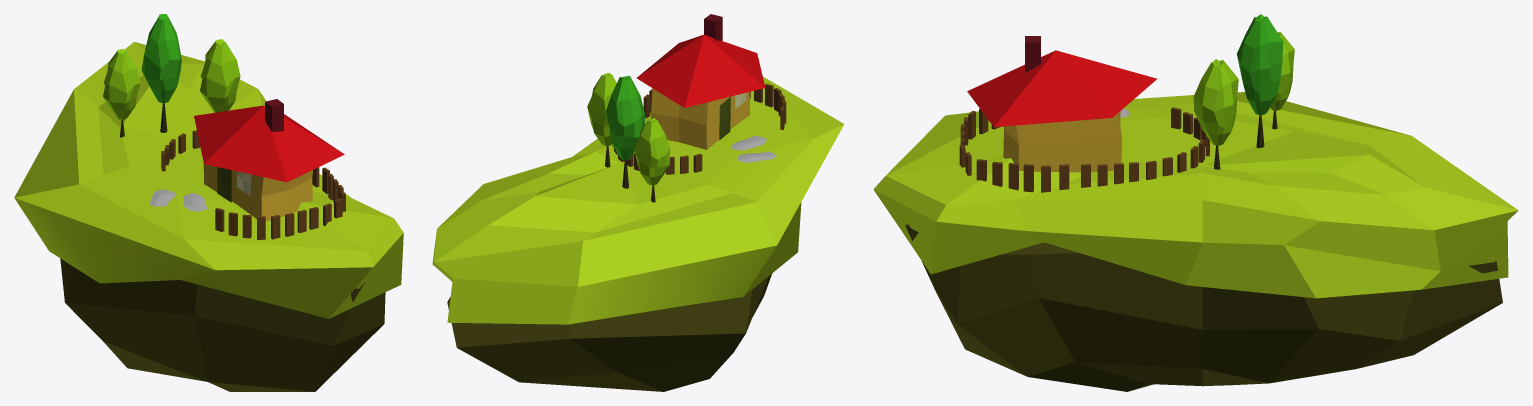
The model's file is island3.fbx.
The picture shows the model from 3 angles, left to right: view 1: azimuth 30°, elevation 25°; view 2: azimuth 150°, elevation 25°; view 3: azimuth 270°, elevation 25°; orthographic projection. The views are drawn at different scales.
Parts seen in each view (by area): view 1: pSphere1, pSphere2, pPyramid1, pSphere3 (×3), pCube1, pCube2, pPlane2, pPlane3, pPlane4; view 2: pSphere1, pSphere2, pPyramid1, pSphere3 (×3), pCube1, pCube2, pPlane2; view 3: pSphere1, pSphere2, pPyramid1, pSphere3 (×3), pCube1.
Boxes of the visible parts, x1,y1,x2,y2 form: pSphere1: [14, 42, 403, 318]; pSphere2: [60, 258, 385, 391]; pPyramid1: [194, 105, 344, 182]; pSphere3 (×3): [103, 14, 240, 119]; pCube1: [203, 163, 312, 221]; pCube2: [265, 99, 283, 131]; pPlane2: [217, 167, 231, 202]; pPlane3: [183, 193, 208, 211]; pPlane4: [149, 189, 174, 206]; pSphere1: [432, 76, 844, 324]; pSphere2: [447, 273, 772, 391]; pPyramid1: [636, 34, 765, 107]; pSphere3 (×3): [587, 72, 670, 185]; pCube1: [651, 88, 750, 149]; pCube2: [704, 14, 722, 40]; pPlane2: [719, 97, 730, 140]; pSphere1: [873, 92, 1518, 298]; pSphere2: [905, 224, 1502, 391]; pPyramid1: [967, 50, 1157, 127]; pSphere3 (×3): [1193, 14, 1294, 145]; pCube1: [1003, 111, 1121, 172].
Bounding box in the file's own units: 20.71 × 21.25 × 33.47.
